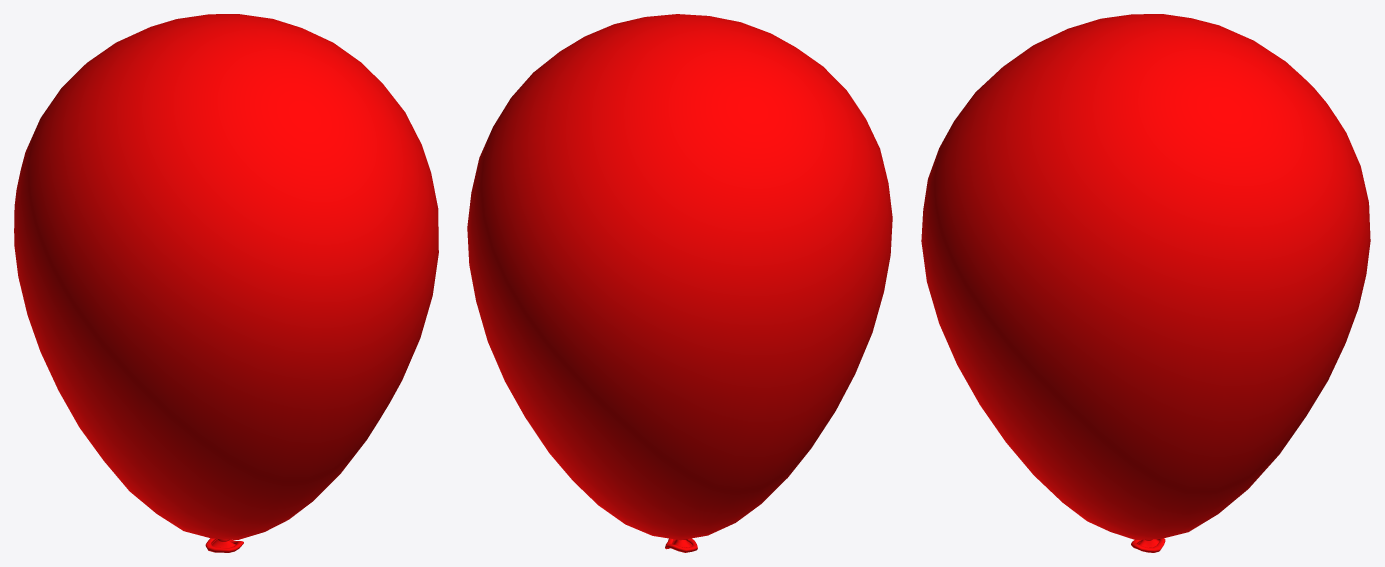
Rendered from MaxExportedFBXFile.fbx.
3 renders of one model, left to right at view 1: azimuth 30°, elevation 25°; view 2: azimuth 150°, elevation 25°; view 3: azimuth 270°, elevation 25°, orthographic.
Parts seen in each view (by area): view 1: GeoSphere01; view 2: GeoSphere01; view 3: GeoSphere01.
Part boxes in pixels (left/top/right/bottom): GeoSphere01: left=14, top=14, right=438, bottom=539; GeoSphere01: left=467, top=14, right=892, bottom=540; GeoSphere01: left=921, top=14, right=1370, bottom=539.
Size of what is drawn, in the model's own units: 98.45 by 133 by 105.
